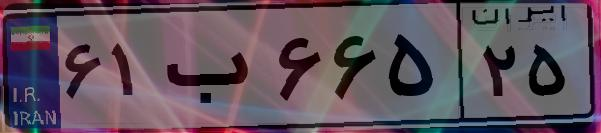1: (110, 28, 158, 98)
2: (475, 38, 525, 113)
5: (385, 28, 445, 110), (525, 38, 570, 115)
6: (270, 28, 330, 110), (330, 28, 385, 110), (57, 26, 110, 100)
ب: (158, 20, 270, 120)
